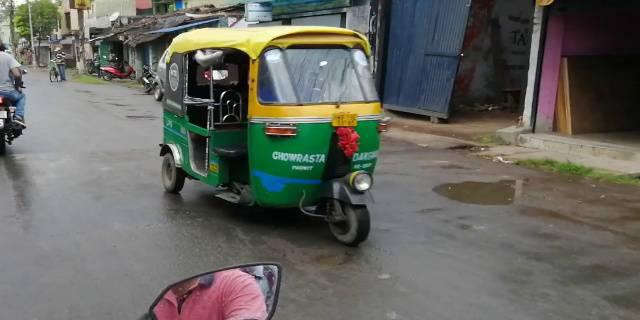Autorickshaw: (159, 23, 392, 247)
